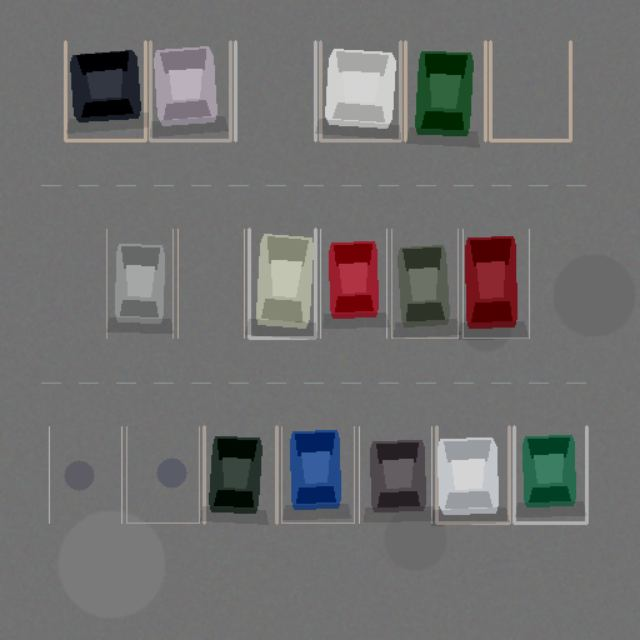space-empty: (235, 41, 315, 140), (490, 41, 570, 140), (178, 229, 244, 338), (126, 426, 199, 523), (49, 426, 121, 523)
space-occupied: (65, 41, 145, 140), (150, 41, 230, 140), (320, 41, 400, 140), (405, 41, 485, 140), (391, 229, 458, 338), (462, 229, 529, 338), (106, 229, 172, 338), (249, 229, 315, 338), (320, 229, 386, 338), (281, 426, 354, 523), (436, 426, 509, 523), (204, 426, 276, 523), (359, 426, 431, 523), (514, 426, 586, 523)
